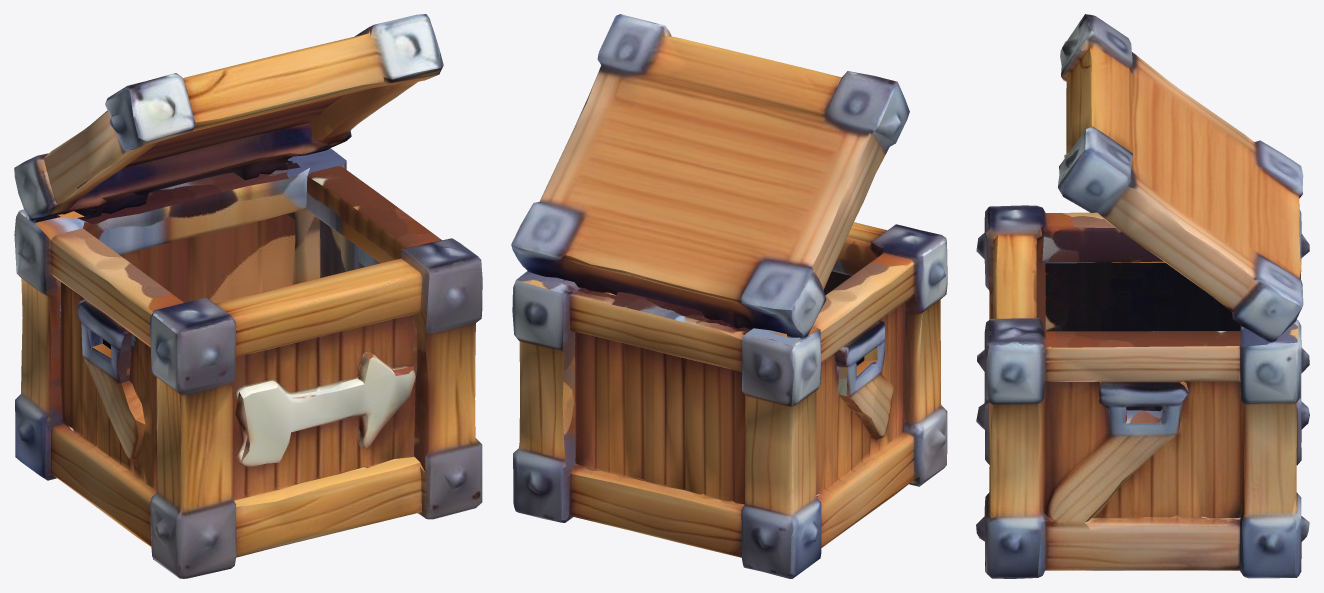
Rendered from bin.glb.
3 renders of one model, left to right at view 1: azimuth 30°, elevation 25°; view 2: azimuth 150°, elevation 25°; view 3: azimuth 270°, elevation 25°, orthographic. The views are drawn at different scales.
Parts seen in each view (by area): view 1: bin_s11; view 2: bin_s11; view 3: bin_s11.
Part boxes in pixels (bbox=[...]): bin_s11: bbox=[14, 14, 482, 578]; bin_s11: bbox=[511, 14, 947, 578]; bin_s11: bbox=[976, 14, 1309, 578].
Size of the model in its own units: 0.737 by 1 by 0.6993.
1 material, 1 textured.
